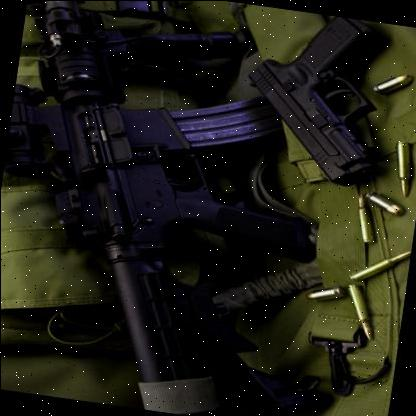rifle: (0, 0, 349, 416), (227, 4, 416, 192)
